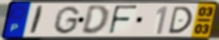1: (156, 5, 169, 35)
D: (79, 5, 110, 37), (167, 6, 194, 35)
F: (107, 4, 140, 36)
G: (52, 5, 82, 35)
I: (28, 5, 46, 36)
